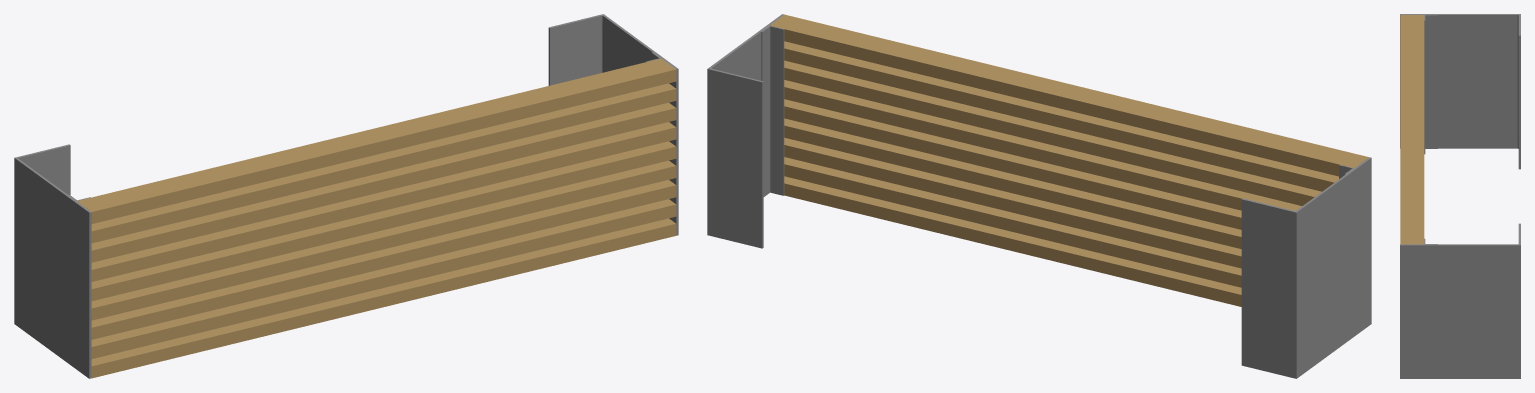
File: Скамья_ Р-С01.gltf
3 renders of one model, left to right at view 1: azimuth 30°, elevation 25°; view 2: azimuth 150°, elevation 25°; view 3: azimuth 270°, elevation 25°, orthographic. The views are drawn at different scales.
Parts seen in each view (by area): view 1: Выдавливание [4951]; view 2: Выдавливание [4951]; view 3: Выдавливание [4951].
Boxes of the visible parts, x1,y1,x2,y2 form: Выдавливание [4951]: (14, 14, 678, 378); Выдавливание [4951]: (707, 14, 1371, 378); Выдавливание [4951]: (1400, 14, 1520, 378).
Bounding box in the file's own units: 2.04 × 0.5504 × 0.45.
